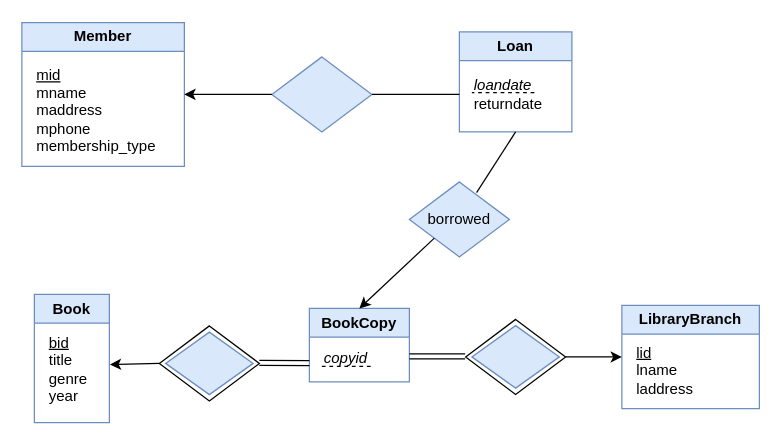
Image size: 781x444. Some labels were removed from this diagram. Here are the shapes that lost their labels. From the top down, the centre of each, then its label:
At [321,94]: "borrower".
At [208,363]: "has".
At [515,356]: "belongs_to".
